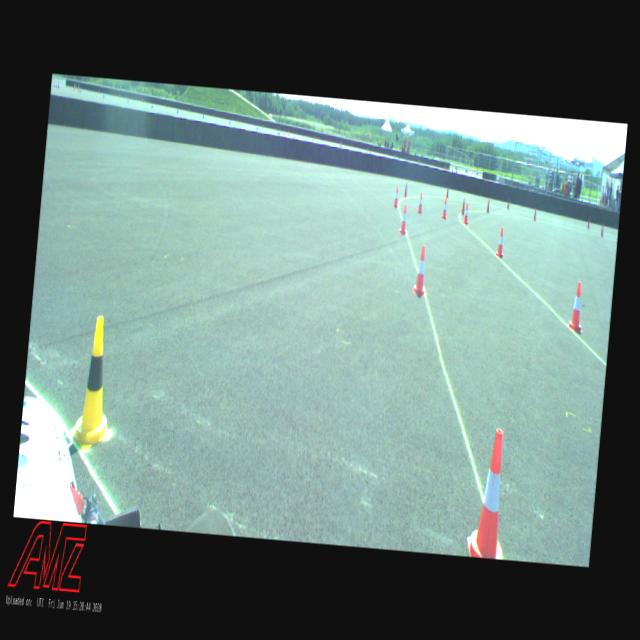orange_cone: (470, 426, 512, 558), (412, 244, 428, 296), (568, 281, 584, 332), (495, 228, 505, 257), (398, 204, 408, 233), (416, 191, 424, 214), (392, 186, 400, 207), (462, 203, 470, 224), (441, 196, 448, 219), (486, 200, 490, 213)
yellow_cone: (73, 313, 119, 449), (187, 108, 189, 115), (164, 104, 166, 110), (140, 98, 142, 104), (118, 94, 120, 100)
